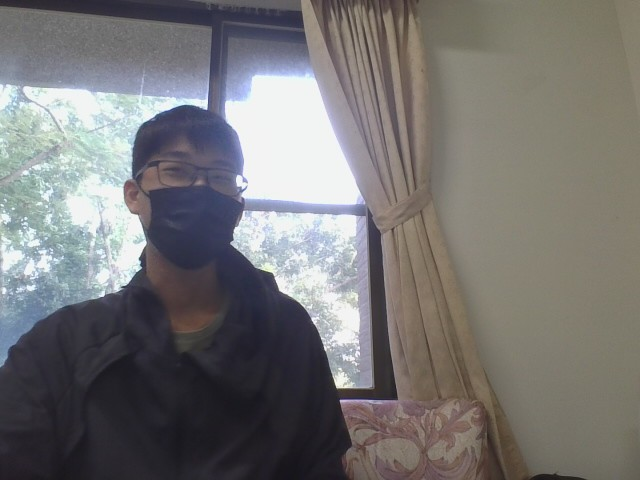No_Helmet: (121, 102, 247, 276)
person: (0, 90, 405, 479)
